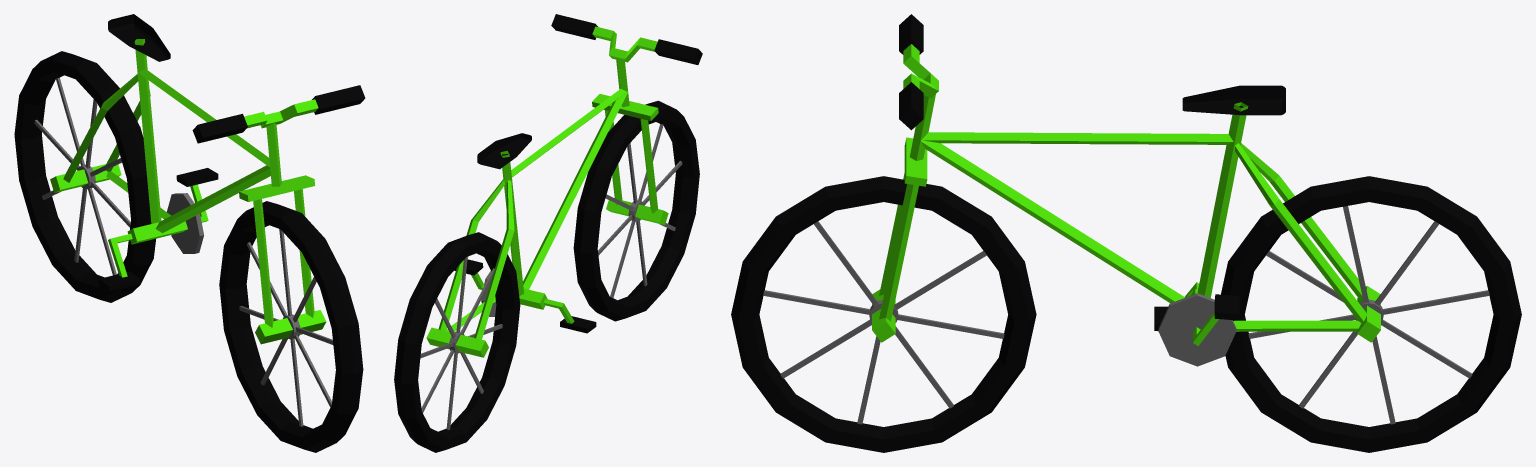
Rendered from Bicicleta01.fbx.
3 renders of one model, left to right at view 1: azimuth 30°, elevation 25°; view 2: azimuth 150°, elevation 25°; view 3: azimuth 270°, elevation 25°, orthographic. The views are drawn at different scales.
Parts seen in each view (by area): view 1: Bicicleta; view 2: Bicicleta; view 3: Bicicleta.
Boxes of the visible parts, x1,y1,x2,y2 form: Bicicleta: [14, 14, 365, 452]; Bicicleta: [394, 14, 702, 452]; Bicicleta: [731, 14, 1521, 452].
Size of the model in its own units: 57.31 by 111 by 204.
